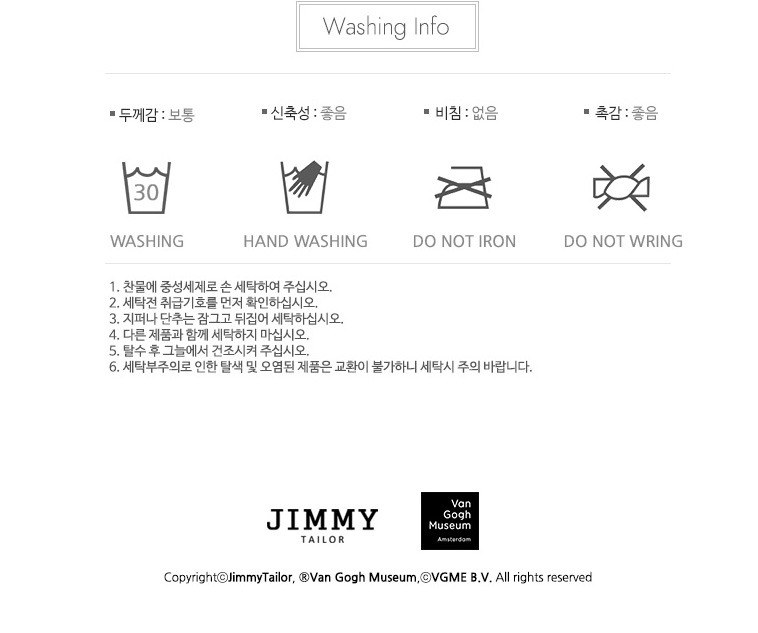do_not_iron: (434, 164, 494, 211)
